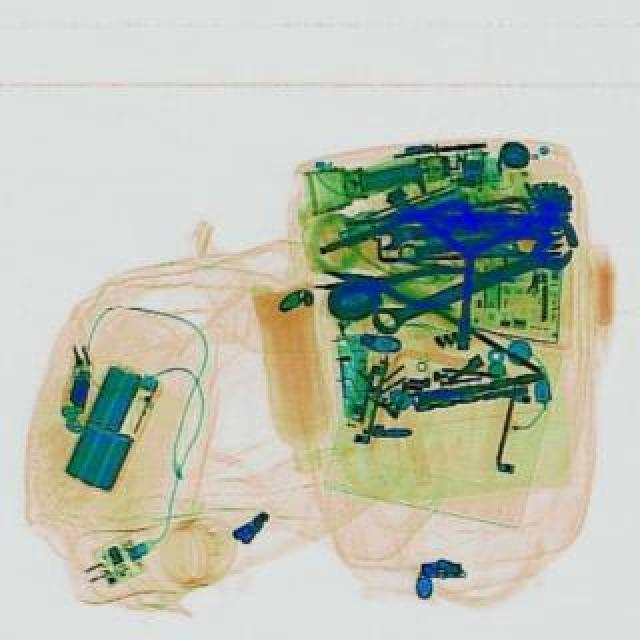scissors: (366, 228, 578, 340), (378, 196, 530, 252)
wrench: (314, 242, 520, 336)
